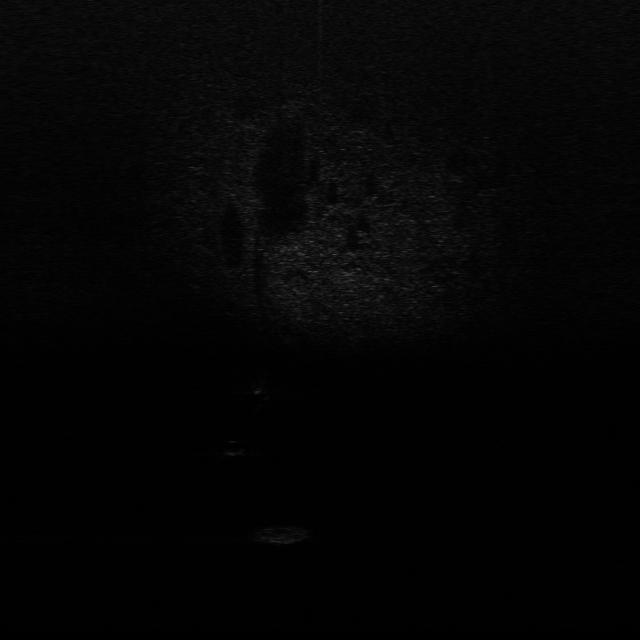ball: (220, 437, 248, 459)
circle cage: (253, 523, 312, 546)
human body: (252, 370, 280, 410)
